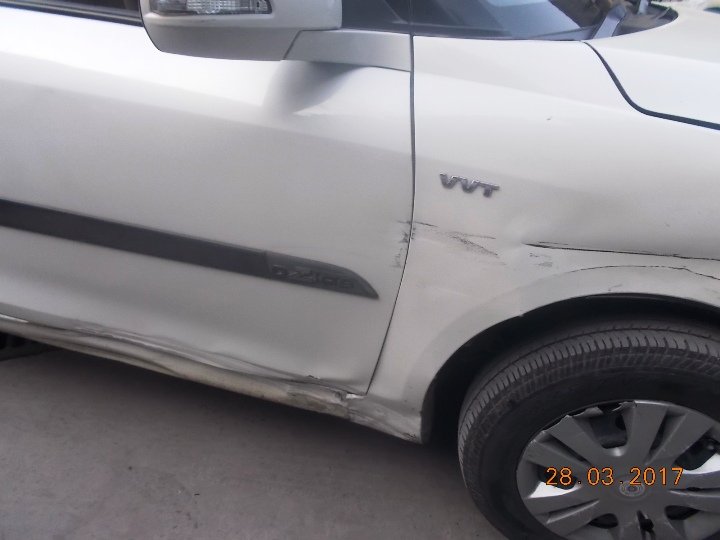Dent: (528, 220, 717, 288), (303, 390, 361, 418)
Scratch_or_spot: (453, 221, 490, 259), (408, 219, 429, 246)
